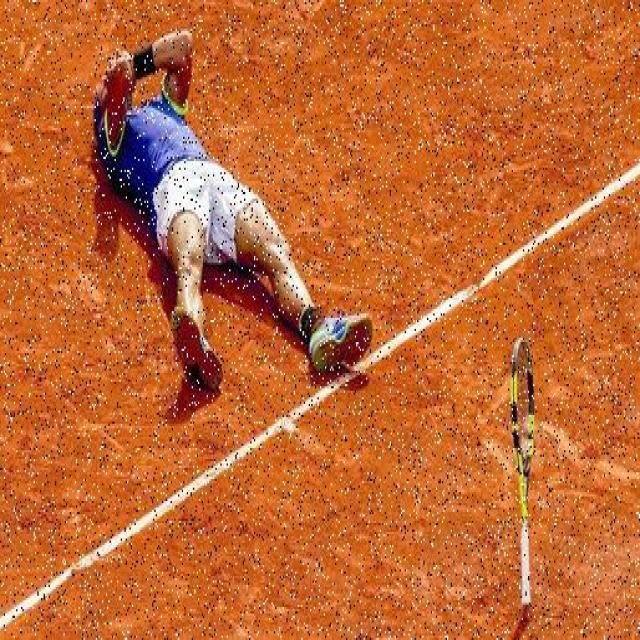fall: (95, 38, 372, 378)
